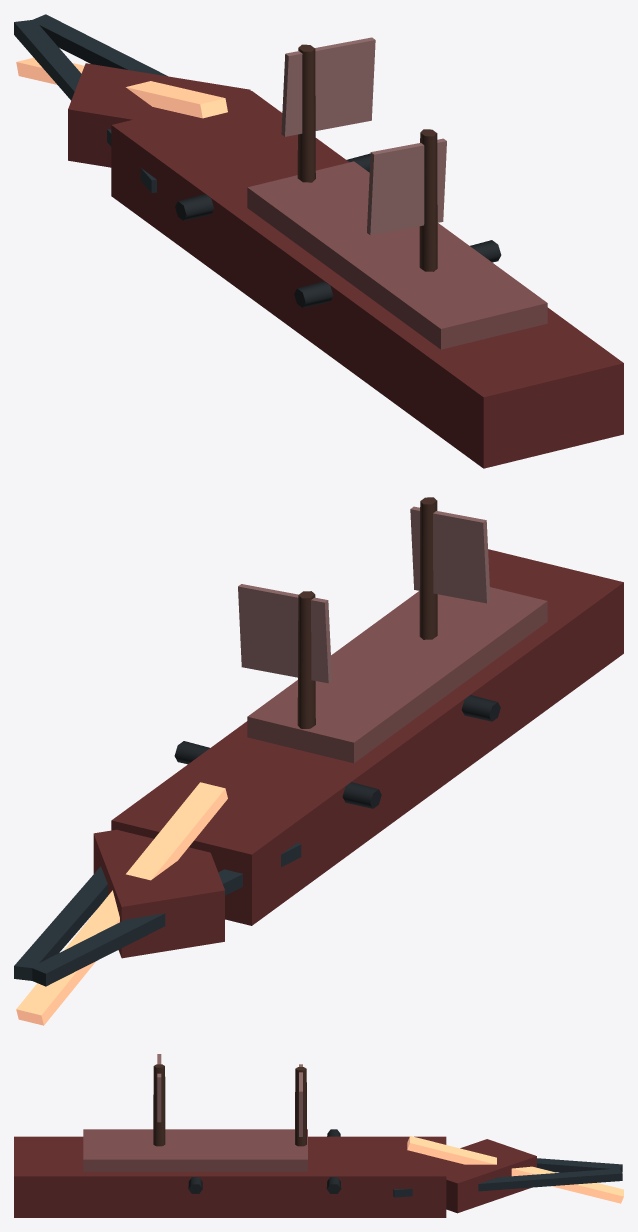
The model's file is ship_main_52_lod1.glb.
3 views of the same model, one above another, from view 1: azimuth 30°, elevation 25°; view 2: azimuth 150°, elevation 25°; view 3: azimuth 270°, elevation 25° (orthographic). The views are drawn at different scales.
Visible parts, largest first — view 1: Hull, Deck_0, Bow, Sail_0, Sail_1, ProwIdentity, PortHook, StarboardHook, Mast_1, Mast_0, Gun_P_0, Gun_P_2; view 2: Hull, Deck_0, Bow, ProwIdentity, Sail_0, Sail_1, PortHook, StarboardHook, Mast_1, Mast_0, Gun_P_2, Gun_P_0; view 3: Hull, Deck_0, Bow, ProwIdentity, StarboardHook, Mast_1, PortHook, Mast_0, Sail_1, Sail_0.
Part boxes in pixels (bbox=[...]): Hull: bbox=[111, 91, 623, 468]; Deck_0: bbox=[247, 161, 547, 349]; Bow: bbox=[68, 63, 250, 167]; Sail_0: bbox=[281, 37, 375, 136]; Sail_1: bbox=[367, 138, 446, 235]; ProwIdentity: bbox=[16, 57, 227, 118]; PortHook: bbox=[14, 19, 156, 192]; StarboardHook: bbox=[33, 14, 167, 76]; Mast_1: bbox=[419, 129, 437, 271]; Mast_0: bbox=[297, 44, 315, 182]; Gun_P_0: bbox=[175, 194, 214, 220]; Gun_P_2: bbox=[294, 281, 333, 307]; Hull: bbox=[111, 549, 623, 925]; Deck_0: bbox=[247, 587, 547, 763]; Bow: bbox=[93, 829, 224, 958]; ProwIdentity: bbox=[16, 782, 227, 1025]; Sail_0: bbox=[238, 584, 331, 683]; Sail_1: bbox=[410, 506, 490, 603]; PortHook: bbox=[31, 842, 301, 986]; StarboardHook: bbox=[14, 866, 107, 980]; Mast_1: bbox=[419, 497, 437, 639]; Mast_0: bbox=[297, 591, 315, 728]; Gun_P_2: bbox=[461, 695, 500, 721]; Gun_P_0: bbox=[342, 782, 381, 808]; Hull: bbox=[14, 1136, 446, 1217]; Deck_0: bbox=[83, 1129, 307, 1171]; Bow: bbox=[446, 1139, 536, 1213]; ProwIdentity: bbox=[407, 1136, 623, 1203]; StarboardHook: bbox=[393, 1169, 622, 1197]; Mast_1: bbox=[153, 1064, 165, 1146]; PortHook: bbox=[537, 1158, 622, 1172]; Mast_0: bbox=[295, 1067, 306, 1146]; Sail_1: bbox=[157, 1054, 161, 1122]; Sail_0: bbox=[299, 1064, 302, 1136].
Size of the model in its own units: 1.9 by 2.14 by 8.84.
